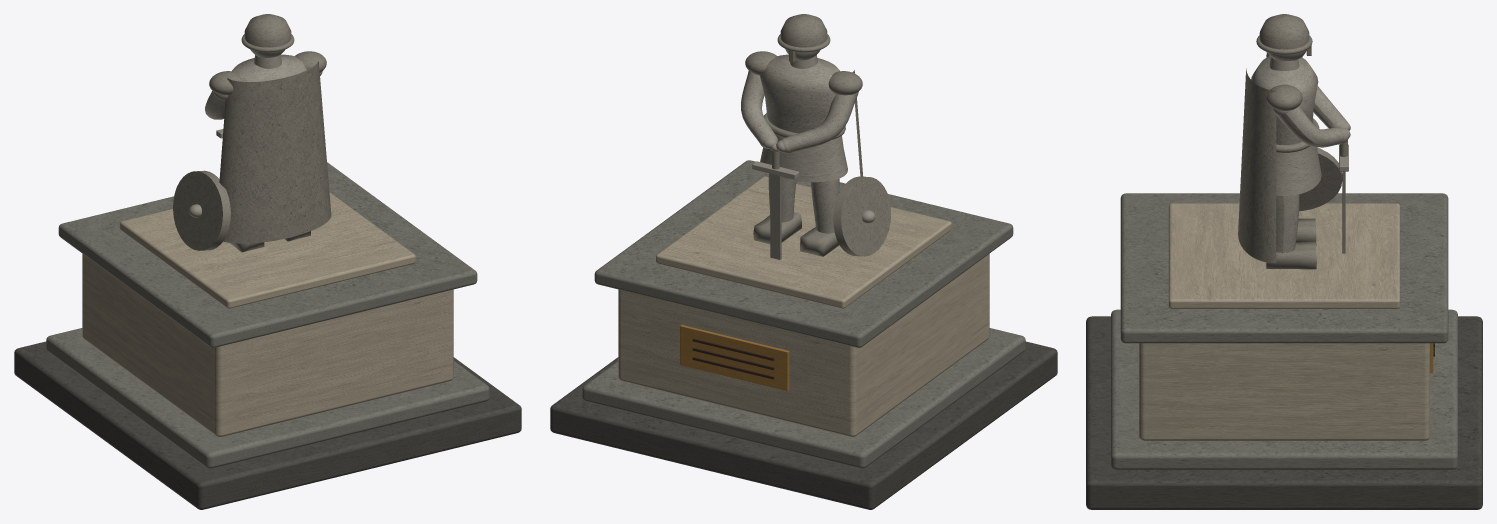
The model's file is statue_plinth.glb.
3 views of the same model, side by side, from view 1: azimuth 30°, elevation 25°; view 2: azimuth 150°, elevation 25°; view 3: azimuth 270°, elevation 25° (orthographic). The views are drawn at different scales.
Visible parts, largest first — view 1: statue_plinth; view 2: statue_plinth; view 3: statue_plinth.
Part boxes in pixels (x1,y1,x2,y2): statue_plinth: [14, 14, 521, 509]; statue_plinth: [550, 14, 1057, 509]; statue_plinth: [1086, 14, 1482, 509].
Bounding box in the file's own units: 2.8 × 3.2 × 2.8.
Materials: 1 (1 with a texture image).
